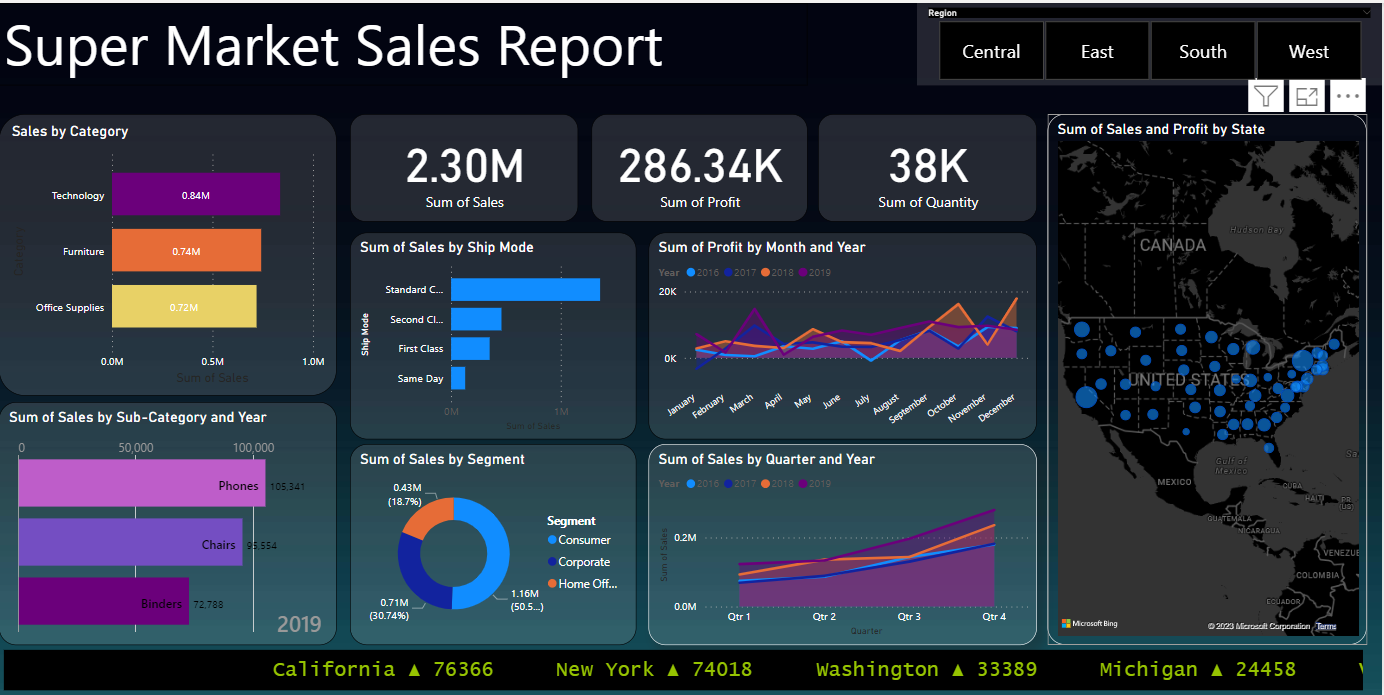

What the dashboard file says about the page in this screenshot:
{"tool":"powerbi","page":{"name":"Page 1","canvas":[1600,800],"ordinal":0},"visuals":[{"type":"barChart","title":"Sales by Category","fields":{"Category":["Orders.Category"],"Y":["Sum(Orders.Sales)"]},"box":[0,128.4,390.5,326.2],"z":0},{"type":"wishyoulizationbarchartrace","fields":{"name":["Orders.Sub-Category"],"value":["Sum(Orders.Sales)"],"year":["Orders.Order Date.Variation.Date Hierarchy.Year"]},"box":[0,461.6,390.5,281.1],"z":1000},{"type":"areaChart","fields":{"Category":["Orders.Order Date.Variation.Date Hierarchy.Quarter","Orders.Order Date.Variation.Date Hierarchy.Month"],"Y":["Sum(Orders.Sales)"],"Series":["Orders.Order Date.Variation.Date Hierarchy.Year"]},"box":[751.4,510.2,449.5,232.5],"z":2000},{"type":"map","title":"Sum of Sales and Profit by State","fields":{"Category":["Orders.State"],"Size":["Sum(Orders.Profit)"]},"box":[1213,128.4,369.6,614.3],"z":3000},{"type":"barChart","fields":{"Y":["Sum(Orders.Sales)"],"Category":["Orders.Ship Mode"]},"box":[406.1,265.5,331.5,239.5],"z":4000},{"type":"areaChart","fields":{"Category":["Orders.Order Date.Variation.Date Hierarchy.Month"],"Y":["Sum(Orders.Profit)"],"Series":["Orders.Order Date.Variation.Date Hierarchy.Year"]},"box":[751.4,265.5,449.5,239.5],"z":5000},{"type":"donutChart","fields":{"Category":["Orders.Segment"],"Y":["Sum(Orders.Sales)"]},"box":[406.1,510.2,331.5,232.5],"z":6000},{"type":"slicer","fields":{"Values":["Orders.Region"]},"box":[1062,0,538,95.4],"z":7000},{"type":"card","fields":{"Values":["Sum(Orders.Sales)"]},"box":[406.1,128.4,263.8,124.9],"z":8000},{"type":"card","fields":{"Values":["Sum(Orders.Profit)"]},"box":[685.5,128.4,249.9,124.9],"z":9000},{"type":"card","fields":{"Values":["Sum(Orders.Quantity)"]},"box":[947.5,128.4,253.4,124.9],"z":10000},{"type":"textbox","title":"Super Market Sales Report","box":[0,0,935.4,95.4],"z":11000},{"type":"ScrollingTextVisual1448795304508","fields":{"Measure Deviation":["Sum(Orders.Profit)"],"Category":["Orders.State"]},"box":[0,742.7,1582.6,57.3],"z":12000}]}

Visuals, with their boxes in screenshot pixels (x1, y1, x2, y2), scaled from the page's 1600x800 canvas onto the 1384x695 screenshot:
"Sales by Category" barChart: <box>0,112,338,395</box>
wishyoulizationbarchartrace - Orders.Sub-Category x Sum(Orders.Sales): <box>0,401,338,645</box>
areaChart - Orders.Order Date.Variation.Date Hierarchy.Quarter x Orders.Order Date.Variation.Date Hierarchy.Month: <box>650,443,1039,645</box>
"Sum of Sales and Profit by State" map: <box>1049,112,1369,645</box>
barChart - Sum(Orders.Sales) x Orders.Ship Mode: <box>351,231,638,439</box>
areaChart - Orders.Order Date.Variation.Date Hierarchy.Month x Sum(Orders.Profit): <box>650,231,1039,439</box>
donutChart - Orders.Segment x Sum(Orders.Sales): <box>351,443,638,645</box>
slicer - Orders.Region: <box>919,0,1383,83</box>
card - Sum(Orders.Sales): <box>351,112,579,220</box>
card - Sum(Orders.Profit): <box>593,112,809,220</box>
card - Sum(Orders.Quantity): <box>820,112,1039,220</box>
"Super Market Sales Report" textbox: <box>0,0,809,83</box>
ScrollingTextVisual1448795304508 - Sum(Orders.Profit) x Orders.State: <box>0,645,1369,694</box>
